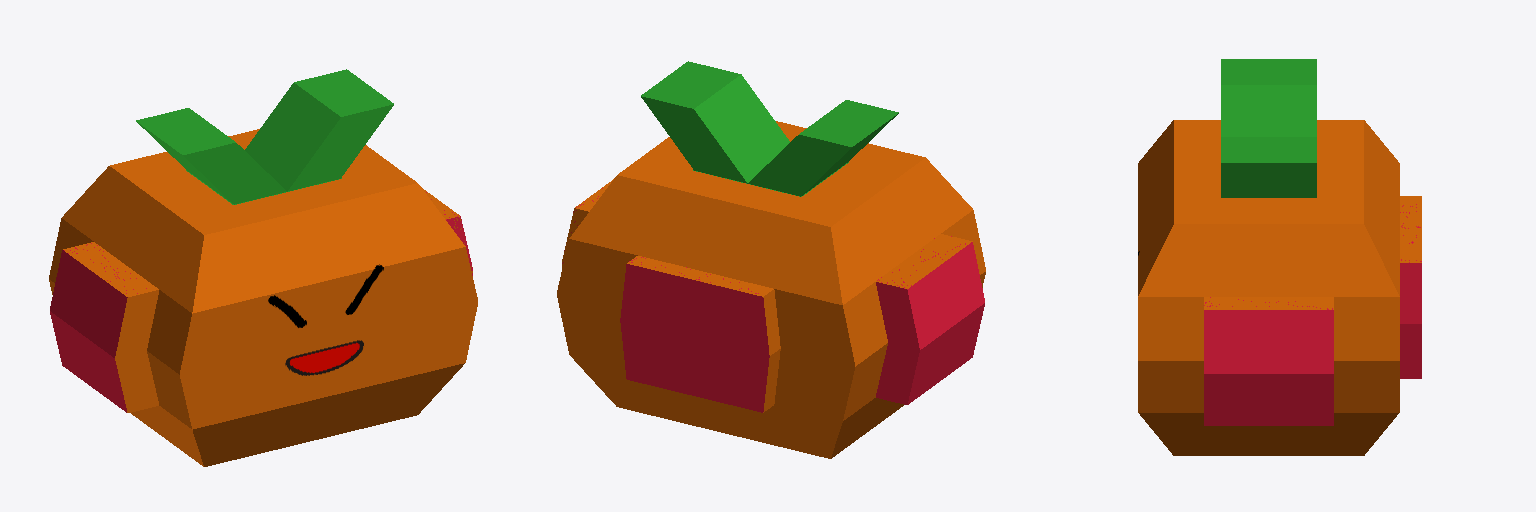
3 views of the same model, side by side, from view 1: azimuth 30°, elevation 25°; view 2: azimuth 150°, elevation 25°; view 3: azimuth 270°, elevation 25° (orthographic).
Parts seen in each view (by area): view 1: Enemy; view 2: Enemy; view 3: Enemy.
Part boxes in pixels (bbox=[...]): Enemy: bbox=[49, 69, 477, 466]; Enemy: bbox=[557, 61, 985, 458]; Enemy: bbox=[1138, 59, 1421, 455].
Bounding box in the file's own units: 1.49 × 1.16 × 1.02.
1 materials, 1 textured.